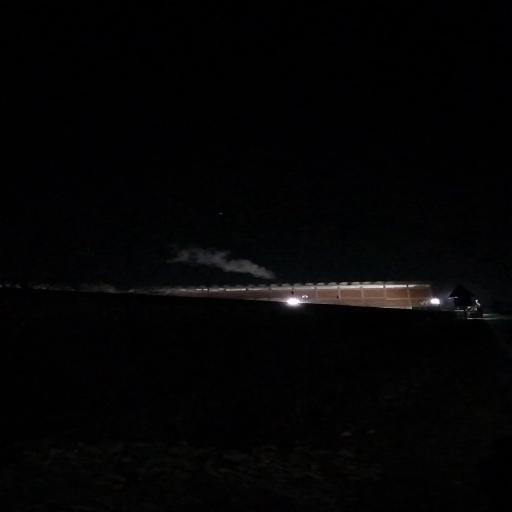leakage: (169, 236, 283, 285)
